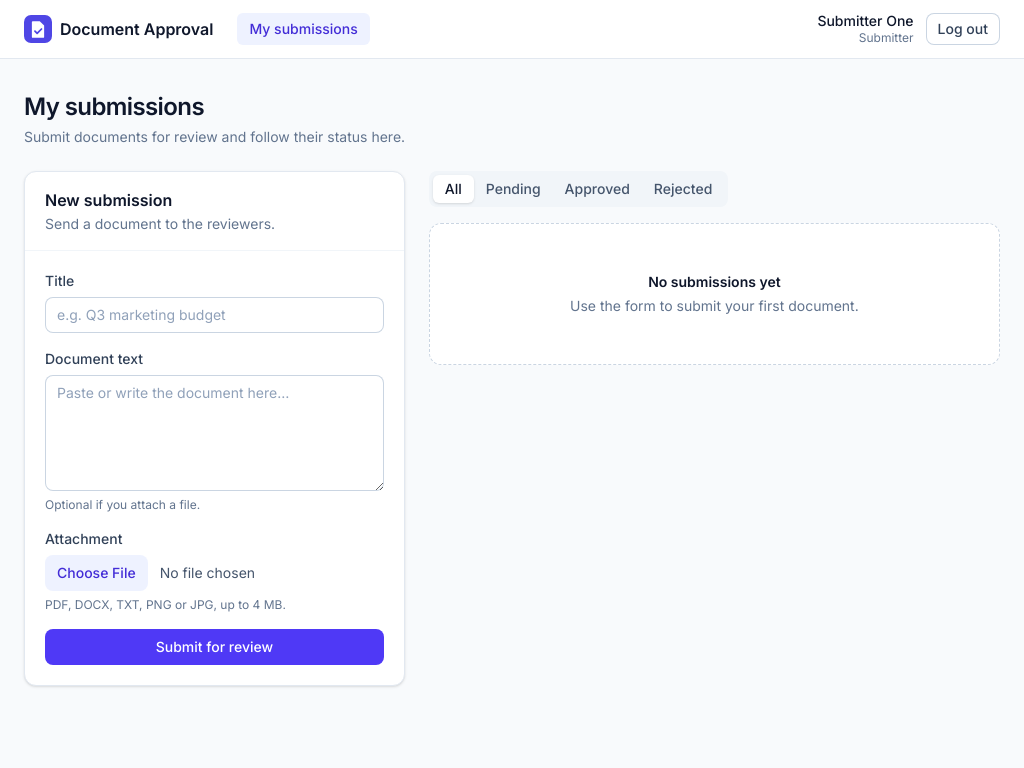
MySubmissionsPage – new submission form › requires a title and either text or a file
Click the button "Submit for review".
click(214, 646)  # box [45,628,384,664]
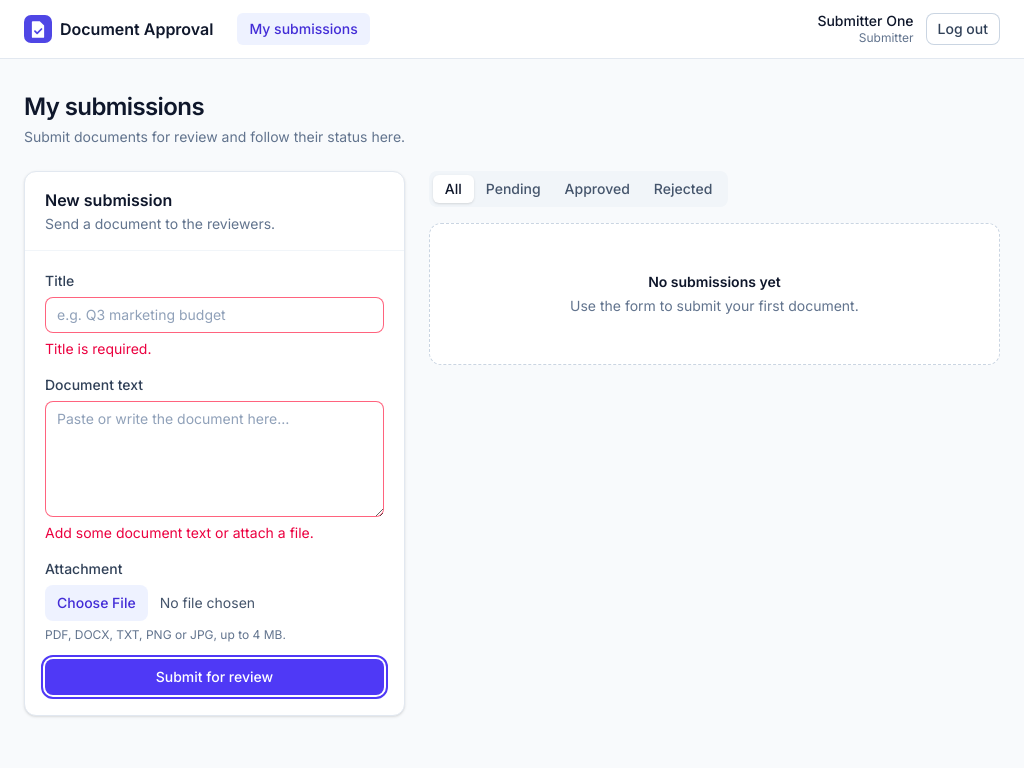
Expected: the text "Title is required." is shown, [45,340,152,356]
Expected: the text "Add some document text or attach a file." is shown, [45,524,314,540]
